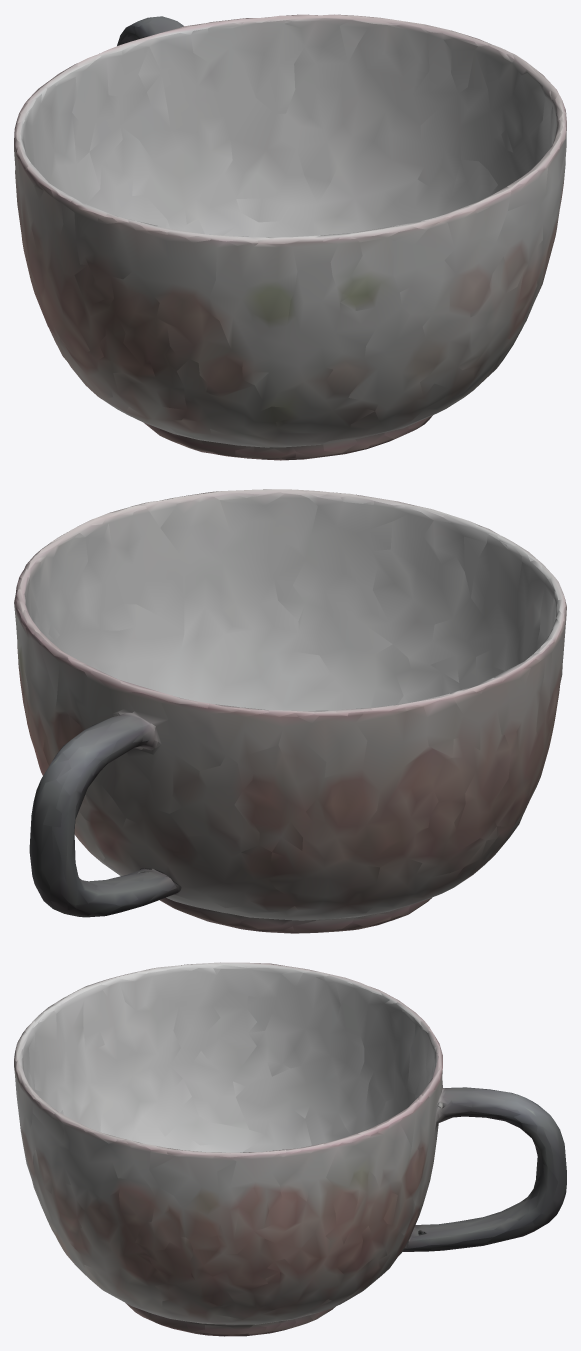
Rendered from 0013_mask_014_white_bowl.glb.
The picture shows the model from 3 angles, top to bottom: view 1: azimuth 30°, elevation 25°; view 2: azimuth 150°, elevation 25°; view 3: azimuth 270°, elevation 25°; orthographic projection. The views are drawn at different scales.
Parts seen in each view (by area): view 1: mask_014_object; view 2: mask_014_object; view 3: mask_014_object.
Boxes of the visible parts, x1,y1,x2,y2 form: mask_014_object: [14, 14, 566, 460]; mask_014_object: [14, 489, 566, 933]; mask_014_object: [14, 962, 566, 1336].
Size of the model in its own units: 0.2282 by 0.1237 by 0.2735.
